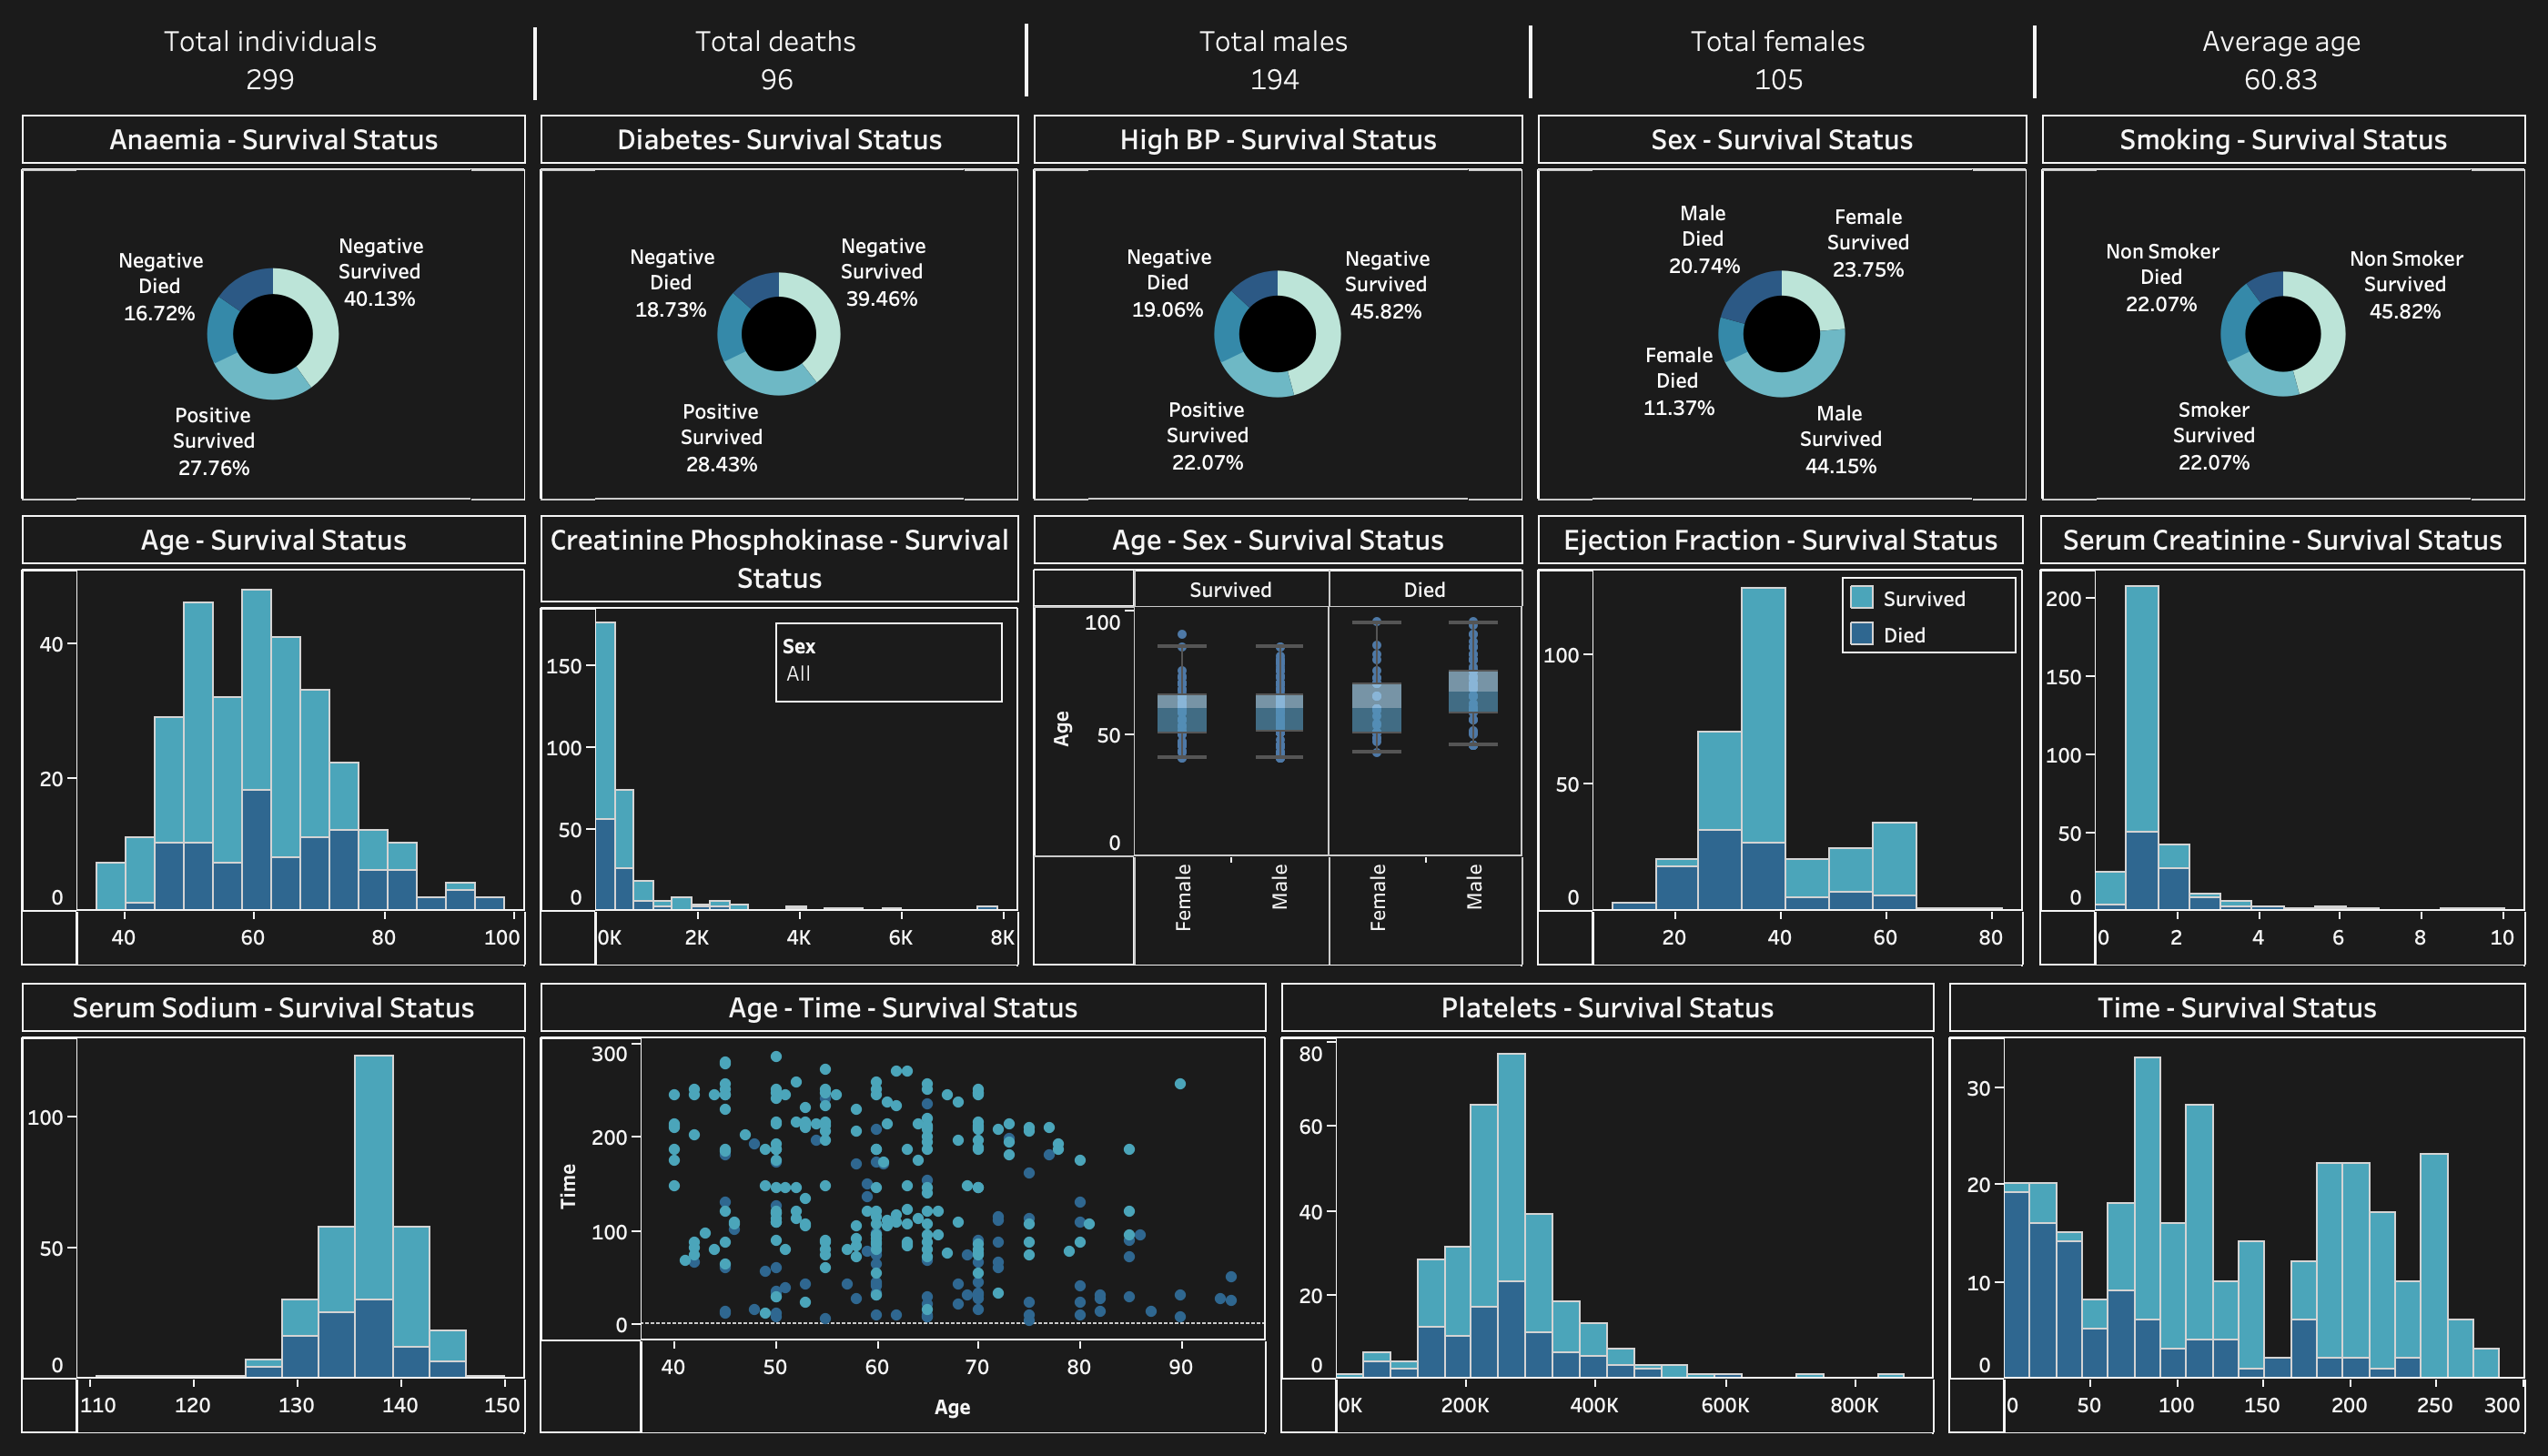

The page's visual inventory and layout, read from the dashboard file:
{"tool":"tableau","page":{"name":"Dashboard 1","canvas":[1400,800],"ordinal":0},"visuals":[{"type":"worksheet","title":"Sheet 15","mark":"Automatic","box":[8,8,285,51]},{"type":"worksheet","title":"Sheet 15 (2)","mark":"Automatic","box":[293,8,271.3,51]},{"type":"worksheet","title":"Sheet 15 (3)","mark":"Automatic","box":[564.3,8,277,51]},{"type":"worksheet","title":"Sheet 15 (4)","mark":"Automatic","box":[841.3,8,277,51]},{"type":"worksheet","title":"Sheet 15 (5)","mark":"Automatic","box":[1118.4,8,273.6,51]},{"type":"blank","box":[563,13,2,40]},{"type":"blank","box":[840,14,2,40]},{"type":"blank","box":[1117,14,2,40]},{"type":"blank","box":[293,15,2,40]},{"type":"worksheet","title":"Sheet 1","mark":"Pie","rows":["Calculation_2898488638498701313","Calculation_2898488638498701313"],"box":[8,59,285.1,220.1]},{"type":"worksheet","title":"Sheet 1 (2)","mark":"Pie","rows":["Calculation_2898488638498701313","Calculation_2898488638498701313"],"box":[293.1,59,271.2,220.1]},{"type":"worksheet","title":"Sheet 1 (3)","mark":"Pie","rows":["Calculation_2898488638498701313","Calculation_2898488638498701313"],"box":[564.3,59,277,220.1]},{"type":"worksheet","title":"Sheet 1 (4)","mark":"Pie","rows":["Calculation_2898488638498701313","Calculation_2898488638498701313"],"box":[841.3,59,277,220.1]},{"type":"worksheet","title":"Sheet 1 (5)","mark":"Pie","rows":["Calculation_2898488638498701313","Calculation_2898488638498701313"],"box":[1118.4,59,273.6,220.1]},{"type":"worksheet","title":"Sheet 6","mark":"Automatic","rows":["age"],"cols":["Age (bin)"],"box":[8,279.1,285.1,256.4]},{"type":"worksheet","title":"Sheet 6 (2)","mark":"Automatic","rows":["creatinine_phosphokinase"],"cols":["Creatinine Phosphokinase (bin)"],"box":[293.1,279.1,271.2,256.4]},{"type":"worksheet","title":"Sheet 6 (9)","mark":"Circle","rows":["age"],"cols":["DEATH_EVENT","sex"],"box":[564.3,279.1,277,256.4]},{"type":"worksheet","title":"Sheet 6 (3)","mark":"Automatic","rows":["ejection_fraction"],"cols":["Ejection Fraction (bin)"],"box":[841.3,279.1,275.3,256.4]},{"type":"worksheet","title":"Sheet 6 (5)","mark":"Automatic","rows":["serum_creatinine"],"cols":["Serum Creatinine (bin)"],"box":[1116.7,279.1,275.3,256.4]},{"type":"legend","title":"Sheet 6 (3)","param":"[federated.0g0n4n51aclhfj1bwokrg15x2a07].[none:DEATH_EVENT:ok]","box":[1012,317,96,42]},{"type":"filter","title":"Sheet 6 (9)","param":"[federated.0g0n4n51aclhfj1bwokrg15x2a07].[none:sex:ok]","box":[426,342,125,44]},{"type":"worksheet","title":"Sheet 6 (6)","mark":"Automatic","rows":["serum_sodium"],"cols":["Serum Sodium (bin)"],"box":[8,535.5,285.1,256.5]},{"type":"worksheet","title":"Sheet 6 (8)","mark":"Automatic","rows":["time"],"cols":["age"],"box":[293.1,535.5,406.9,256.5]},{"type":"worksheet","title":"Sheet 6 (4)","mark":"Automatic","rows":["platelets"],"cols":["Platelets (bin)"],"box":[700,535.5,367,256.5]},{"type":"worksheet","title":"Sheet 6 (7)","mark":"Automatic","rows":["time"],"cols":["Time (bin)"],"box":[1067,535.5,325,256.5]}]}

Visuals, with their boxes in screenshot pixels (x1, y1, x2, y2), scaled from the page's 1400x800 canvas onto the 2548x1456 screenshot:
"Sheet 15" worksheet: <bbox>15, 15, 533, 107</bbox>
"Sheet 15 (2)" worksheet: <bbox>533, 15, 1027, 107</bbox>
"Sheet 15 (3)" worksheet: <bbox>1027, 15, 1532, 107</bbox>
"Sheet 15 (4)" worksheet: <bbox>1532, 15, 2036, 107</bbox>
"Sheet 15 (5)" worksheet: <bbox>2036, 15, 2533, 107</bbox>
blank: <bbox>1025, 24, 1028, 96</bbox>
blank: <bbox>1529, 25, 1532, 98</bbox>
blank: <bbox>2033, 25, 2037, 98</bbox>
blank: <bbox>533, 27, 537, 100</bbox>
"Sheet 1" worksheet (Pie marks): <bbox>15, 107, 533, 508</bbox>
"Sheet 1 (2)" worksheet (Pie marks): <bbox>533, 107, 1027, 508</bbox>
"Sheet 1 (3)" worksheet (Pie marks): <bbox>1027, 107, 1532, 508</bbox>
"Sheet 1 (4)" worksheet (Pie marks): <bbox>1532, 107, 2036, 508</bbox>
"Sheet 1 (5)" worksheet (Pie marks): <bbox>2036, 107, 2533, 508</bbox>
"Sheet 6" worksheet: <bbox>15, 508, 533, 975</bbox>
"Sheet 6 (2)" worksheet: <bbox>533, 508, 1027, 975</bbox>
"Sheet 6 (9)" worksheet (Circle marks): <bbox>1027, 508, 1532, 975</bbox>
"Sheet 6 (3)" worksheet: <bbox>1532, 508, 2032, 975</bbox>
"Sheet 6 (5)" worksheet: <bbox>2032, 508, 2533, 975</bbox>
"Sheet 6 (3)" legend: <bbox>1842, 577, 2017, 653</bbox>
"Sheet 6 (9)" filter: <bbox>775, 622, 1003, 703</bbox>
"Sheet 6 (6)" worksheet: <bbox>15, 975, 533, 1441</bbox>
"Sheet 6 (8)" worksheet: <bbox>533, 975, 1274, 1441</bbox>
"Sheet 6 (4)" worksheet: <bbox>1274, 975, 1942, 1441</bbox>
"Sheet 6 (7)" worksheet: <bbox>1942, 975, 2533, 1441</bbox>
